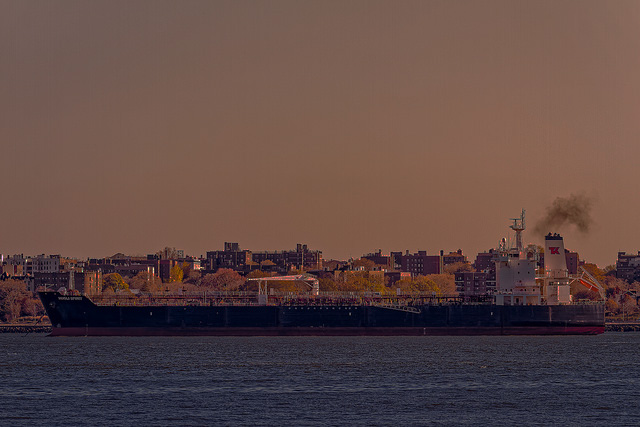tanker: (40, 208, 610, 336)
